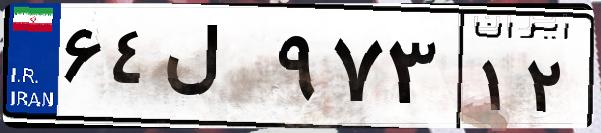1: (475, 38, 525, 113)
2: (525, 38, 570, 115)
3: (385, 28, 445, 110)
4: (110, 28, 158, 98)
6: (57, 26, 110, 100)
7: (330, 28, 385, 110)
9: (270, 28, 330, 110)
ل: (158, 20, 270, 120)
